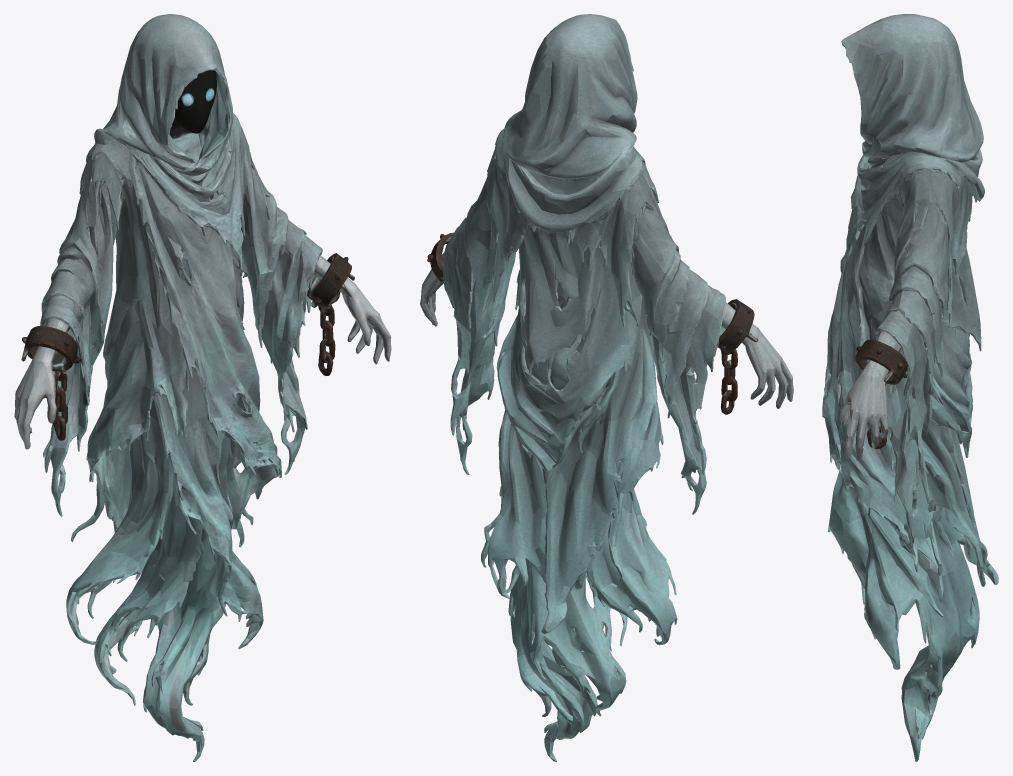
The model's file is ghast.glb.
The picture shows the model from 3 angles, left to right: view 1: azimuth 30°, elevation 25°; view 2: azimuth 150°, elevation 25°; view 3: azimuth 270°, elevation 25°; orthographic projection. The views are drawn at different scales.
Visible parts, largest first — view 1: Mesh_0; view 2: Mesh_0; view 3: Mesh_0.
Boxes of the visible parts, bbox=[...] form: Mesh_0: bbox=[14, 14, 391, 761]; Mesh_0: bbox=[420, 14, 793, 761]; Mesh_0: bbox=[822, 14, 998, 761].
Bounding box in the file's own units: 0.9712 × 1.9 × 0.4132.
1 material, 1 textured.
